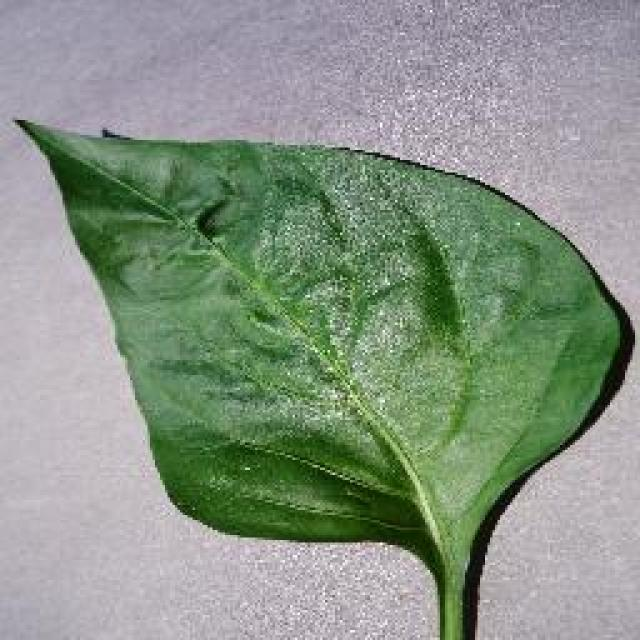Leaf: (0, 67, 632, 622)
